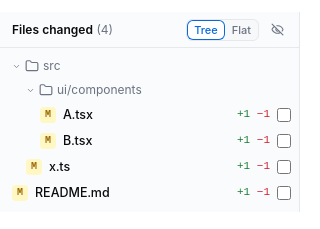
Test: Sidebar / FileTree › tree mode compacts single-child chains, dirs first, files alphabetical
Check: the element showing "Files changed (4)" is shown, box [12, 22, 113, 38]
Note: collapse "ui/components"
Click the text "ui/components".
click(99, 90)  # box [57, 82, 142, 98]
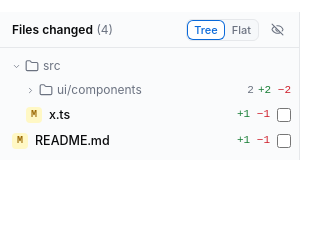
Check: the number of list items is 4, box [12, 58, 60, 73]; [0, 78, 299, 102]; [0, 102, 299, 128]; [0, 128, 299, 154]
